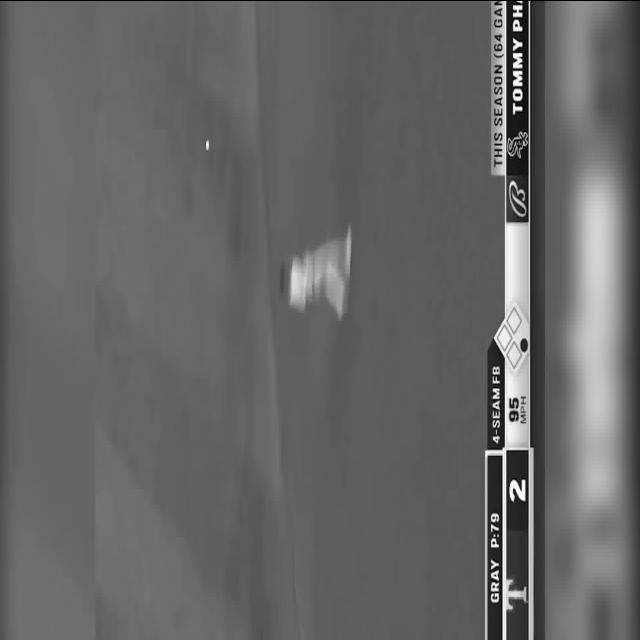baseball: (204, 139, 210, 151)
shoe: (278, 223, 352, 321)
